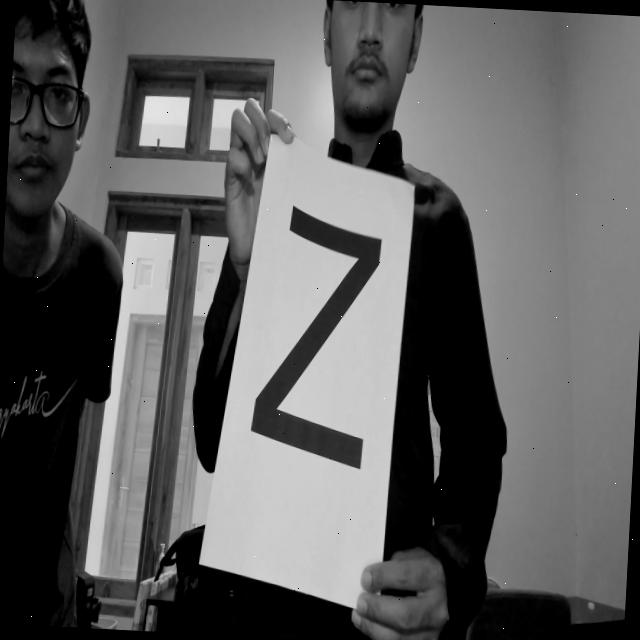z: (242, 190, 390, 492)
